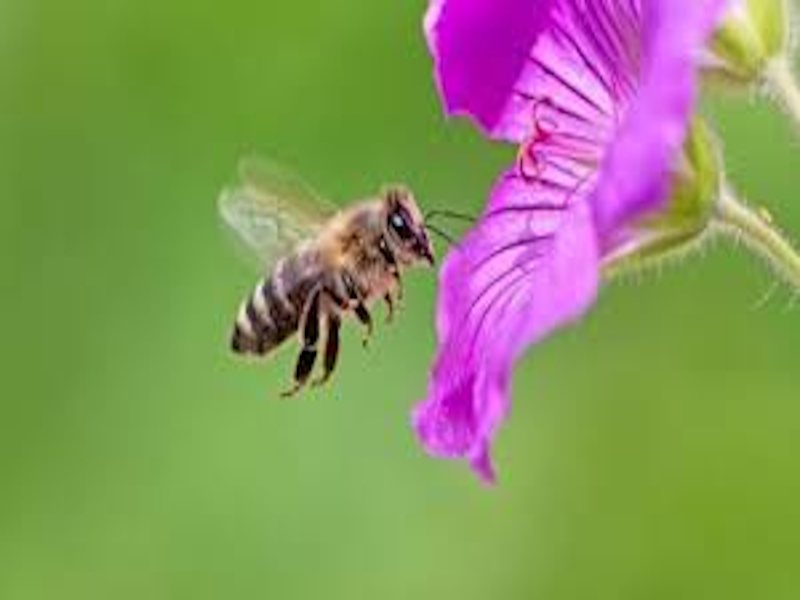abeja: (210, 133, 487, 416)
